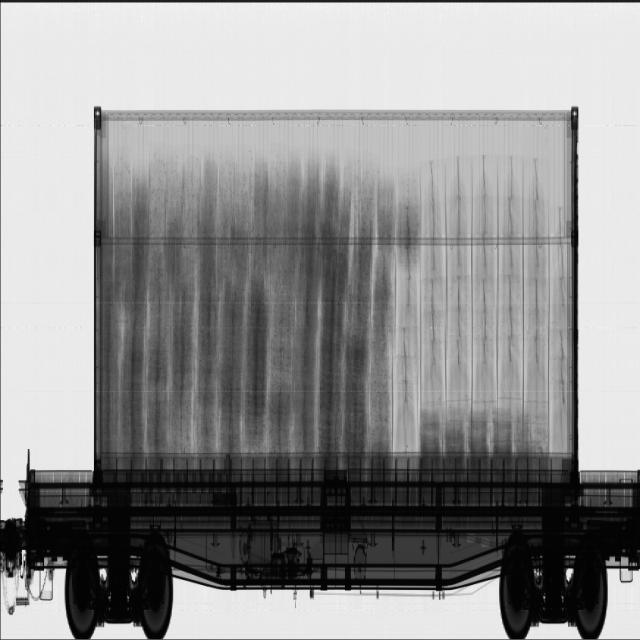textiles: (100, 149, 420, 450)
